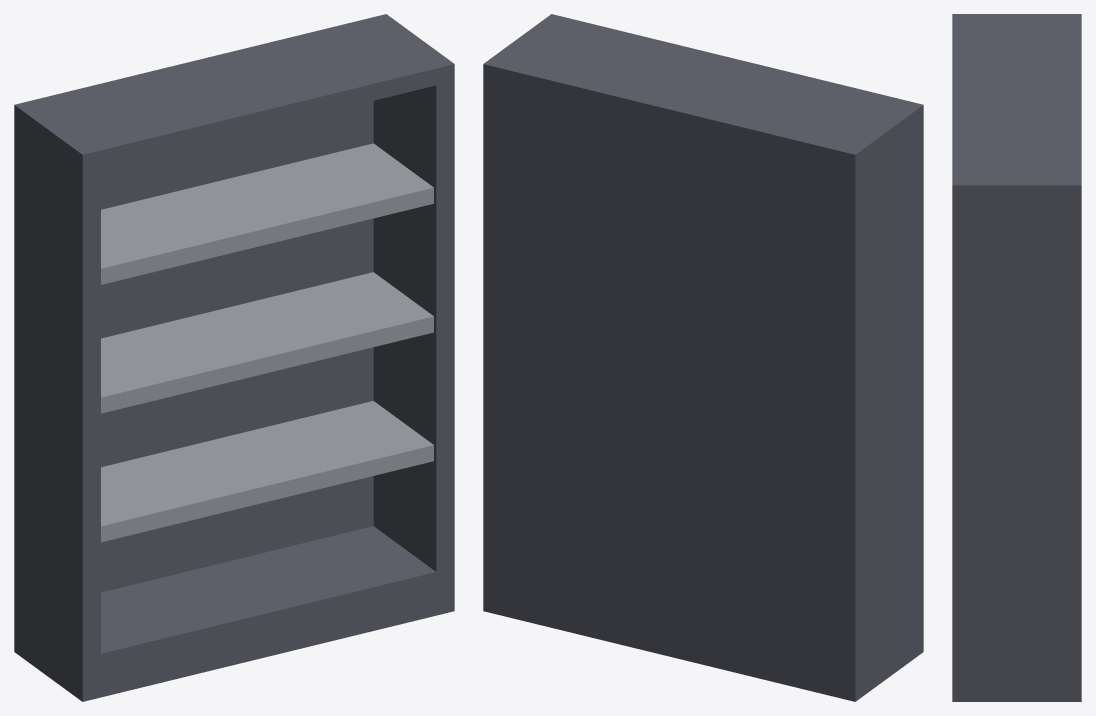
File: Shelves_4C.fbx
The picture shows the model from 3 angles, left to right: view 1: azimuth 30°, elevation 25°; view 2: azimuth 150°, elevation 25°; view 3: azimuth 270°, elevation 25°; orthographic projection. The views are drawn at different scales.
Visible parts, largest first — view 1: polySurface1689; view 2: polySurface1689; view 3: polySurface1689.
Part boxes in pixels (x1,y1,x2,y2): polySurface1689: [14, 14, 454, 701]; polySurface1689: [483, 14, 923, 701]; polySurface1689: [952, 14, 1081, 701].
Bounding box in the file's own units: 2.42 × 3.4 × 0.7702.
Materials: 1 (1 with a texture image).
